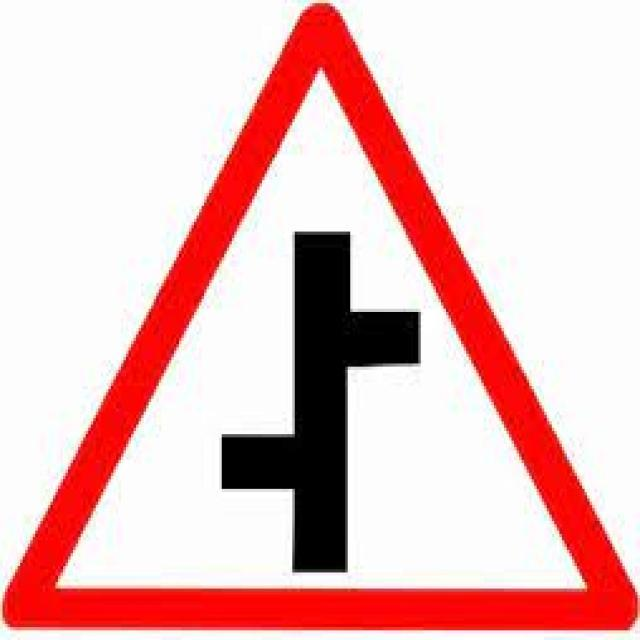staggered intersection: (22, 28, 611, 619)
